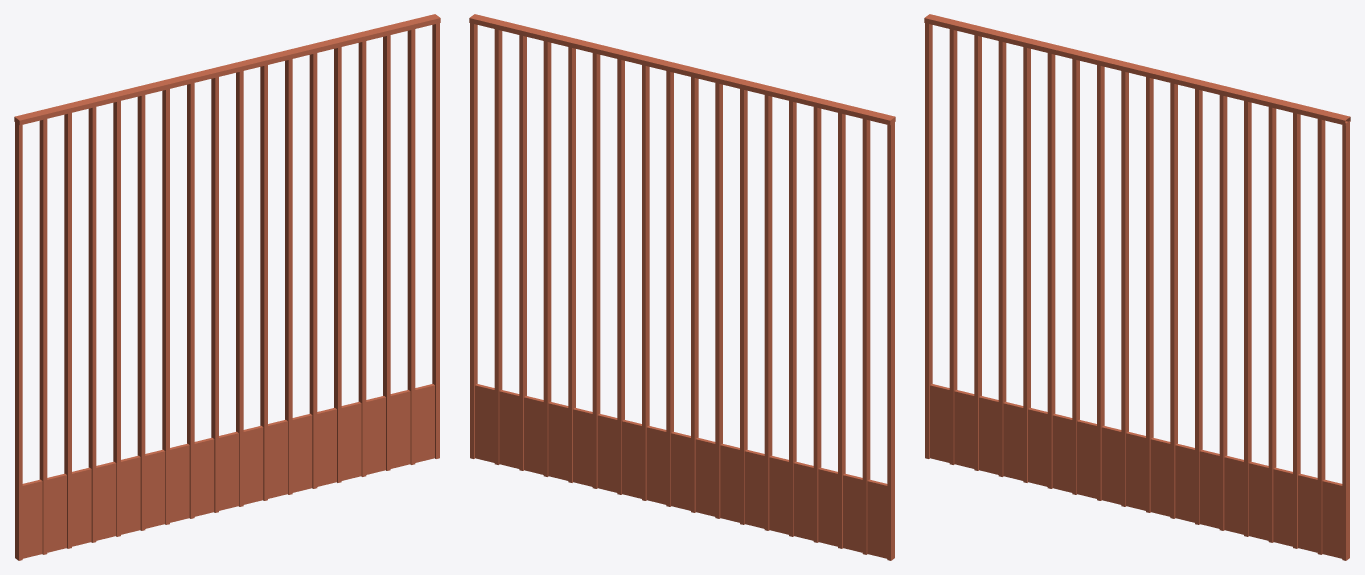
Rendered from Partitions_028.glb.
3 views of the same model, side by side, from view 1: azimuth 30°, elevation 25°; view 2: azimuth 150°, elevation 25°; view 3: azimuth 330°, elevation 25° (orthographic).
Visible parts, largest first — view 1: Partitions_028; view 2: Partitions_028; view 3: Partitions_028.
Part boxes in pixels (x1=…): Partitions_028: x1=14, y1=14, x2=440, y2=560; Partitions_028: x1=469, y1=14, x2=895, y2=560; Partitions_028: x1=924, y1=14, x2=1350, y2=560.
Size of the model in its own units: 4 by 4 by 0.0898.
1 material, 1 textured.
